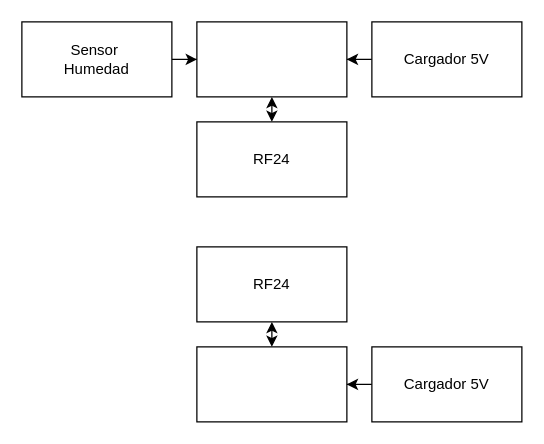
Some shapes in this 544 by 444 pixel diagram are drawn without their labels. The shapes that lost their labels are listed below. From the top down, each one's centre as x and y in pixels, then its label:
At point (271, 59): "Arduino Nano".
At point (271, 384): "Node MCU".
